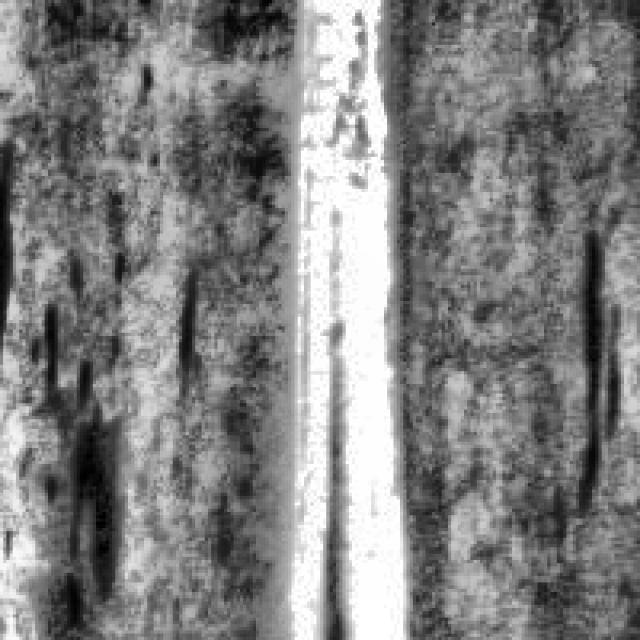Inclusion: (276, 0, 406, 634)
Patches: (57, 356, 121, 602), (570, 224, 620, 496), (163, 262, 208, 380)
